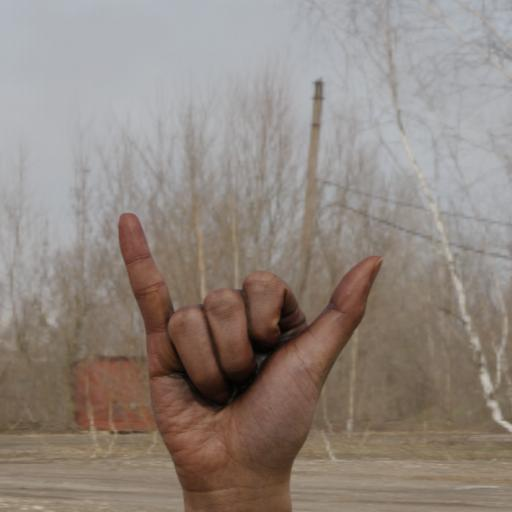Y: (97, 196, 391, 486)
